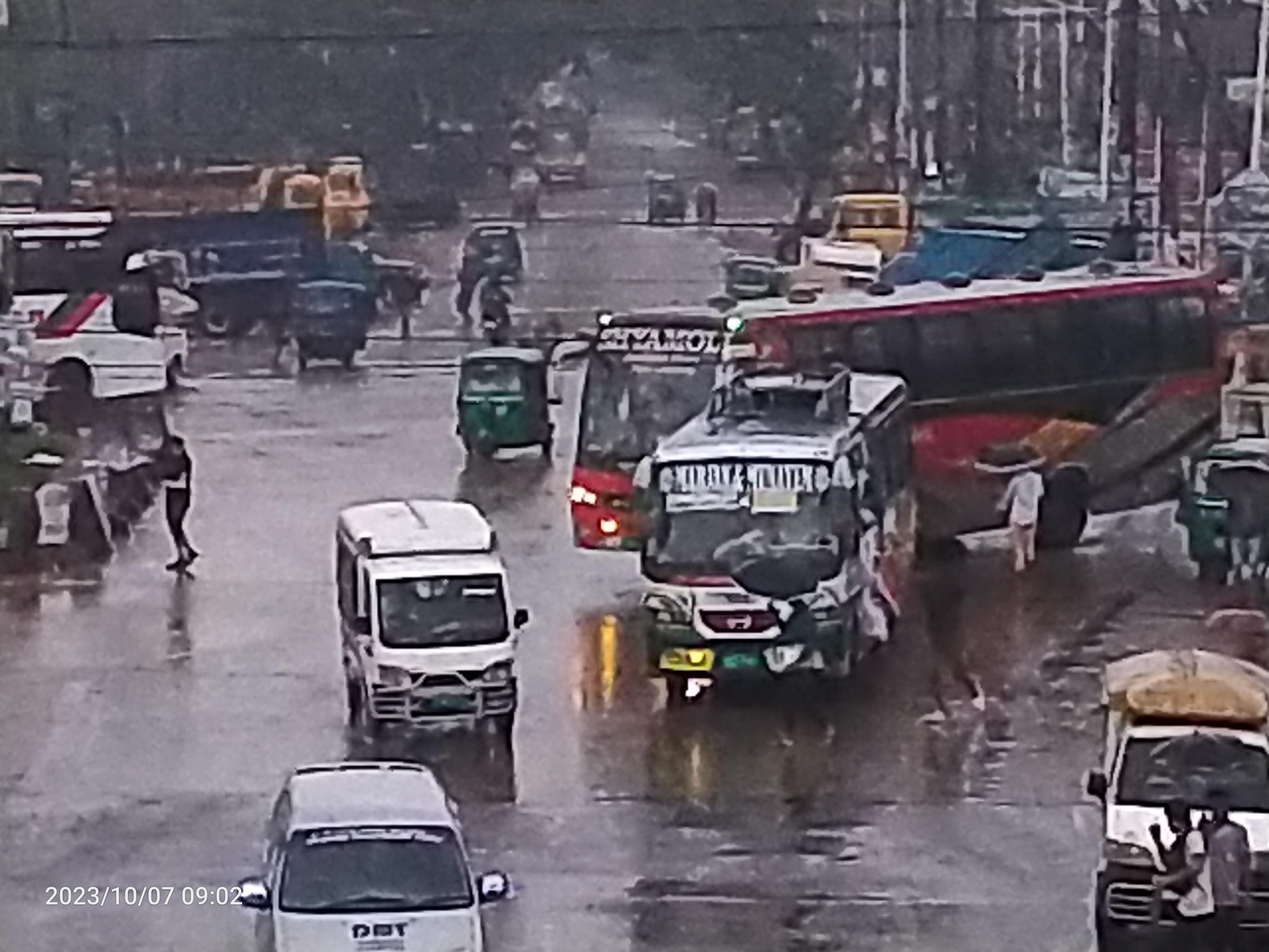Bus: (559, 250, 1233, 574), (604, 366, 949, 717), (0, 181, 157, 356)
Car: (1051, 616, 1269, 952), (307, 462, 533, 760), (233, 731, 490, 952)
Truck: (813, 174, 1094, 297), (130, 174, 343, 313)
